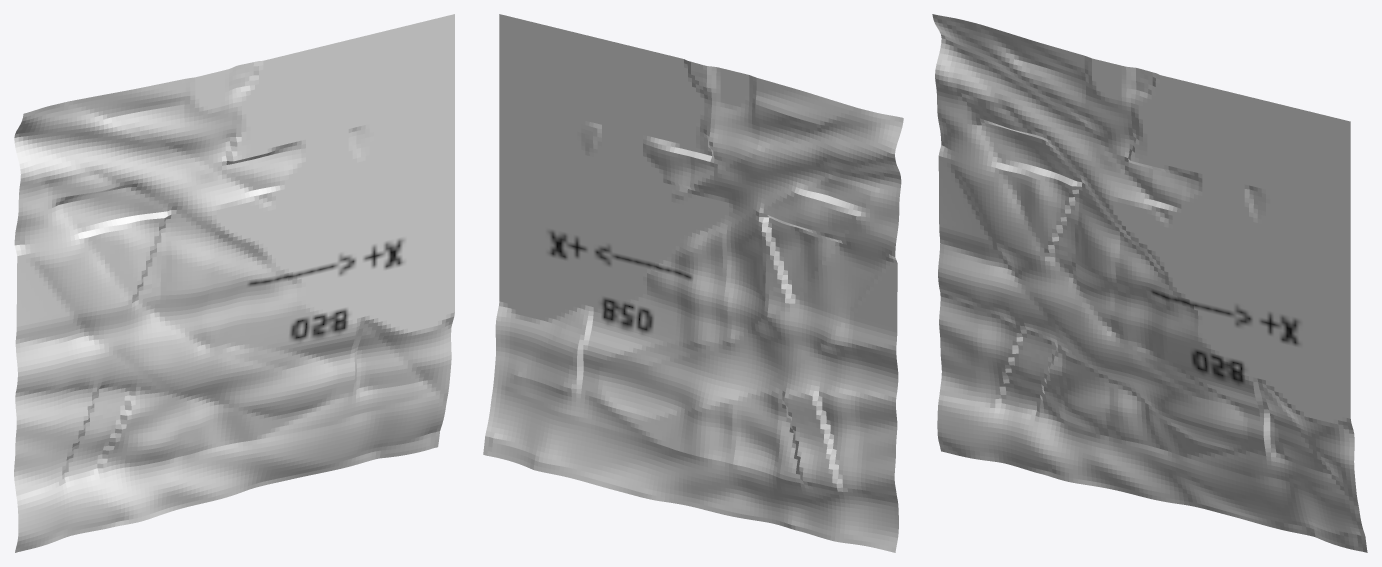
3 views of the same model, side by side, from view 1: azimuth 30°, elevation 25°; view 2: azimuth 150°, elevation 25°; view 3: azimuth 330°, elevation 25° (orthographic). The views are drawn at different scales.
Parts seen in each view (by area): view 1: Ground058; view 2: Ground058; view 3: Ground058.
Boxes of the visible parts, left/top/right/bottom form: Ground058: left=14, top=14, right=454, bottom=552; Ground058: left=483, top=14, right=903, bottom=552; Ground058: left=932, top=14, right=1367, bottom=552.
Size of what is drawn, in the model's own units: 100 by 8.63 by 100.
1 material, 1 textured.
